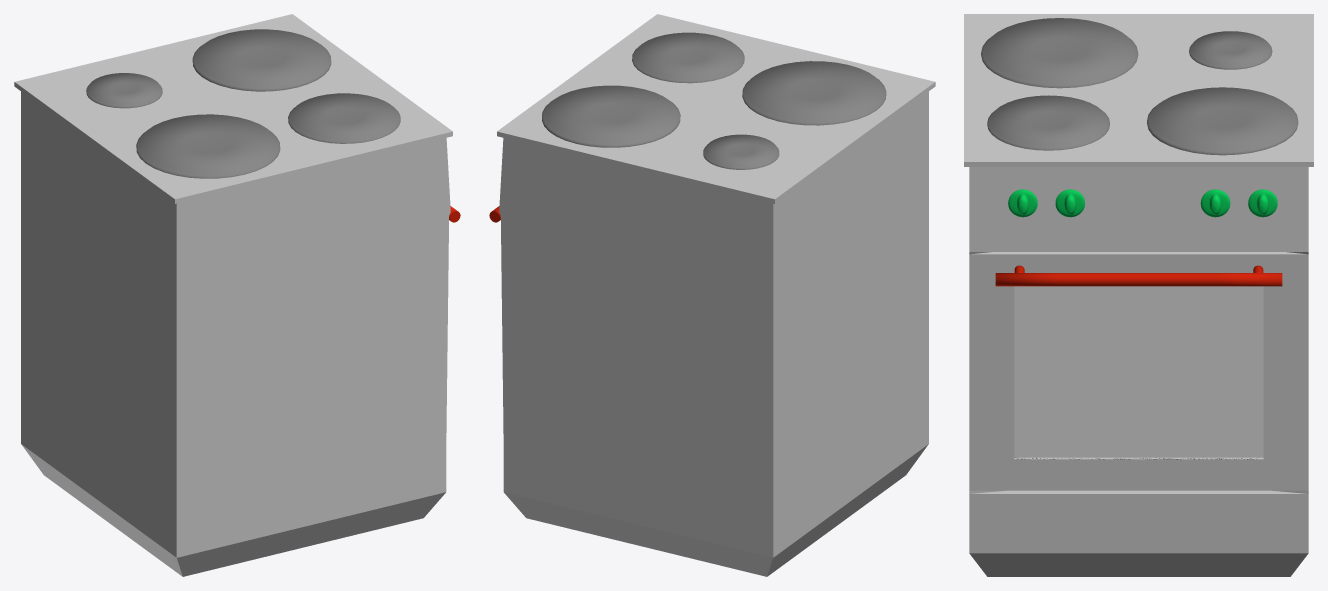
File: Cooker.fbx
3 renders of one model, left to right at view 1: azimuth 30°, elevation 25°; view 2: azimuth 150°, elevation 25°; view 3: azimuth 270°, elevation 25°, orthographic. The views are drawn at different scales.
Parts seen in each view (by area): view 1: Cube; view 2: Cube; view 3: Cube.
Part boxes in pixels (box(x1,y1,x2,y2)): Cube: box(14, 14, 460, 576); Cube: box(489, 14, 935, 576); Cube: box(964, 14, 1313, 576).
Size of the model in its own units: 223 by 280 by 206.
